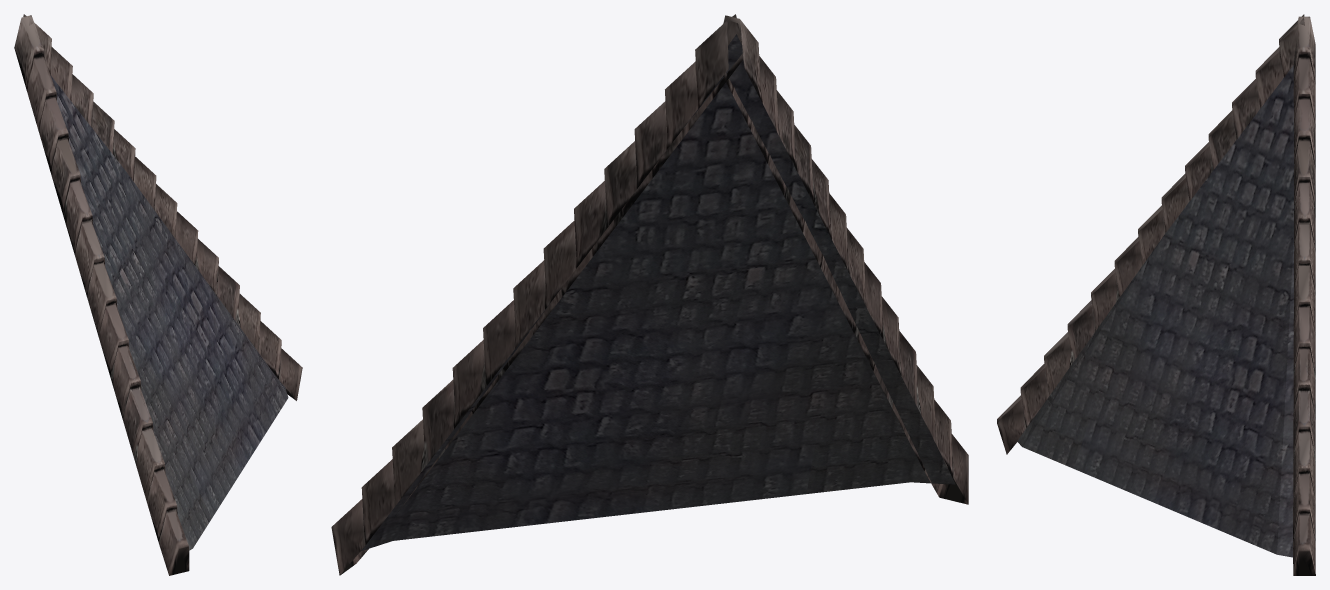
File: RoofCornerDiag1x4-1A.fbx
3 renders of one model, left to right at view 1: azimuth 30°, elevation 25°; view 2: azimuth 150°, elevation 25°; view 3: azimuth 270°, elevation 25°, orthographic. The views are drawn at different scales.
Visible parts, largest first — view 1: RoofCornerDiag1x4-1A; view 2: RoofCornerDiag1x4-1A; view 3: RoofCornerDiag1x4-1A.
Part boxes in pixels (left/top/right/bottom): RoofCornerDiag1x4-1A: left=14, top=14, right=302, bottom=575; RoofCornerDiag1x4-1A: left=331, top=14, right=968, bottom=575; RoofCornerDiag1x4-1A: left=997, top=14, right=1315, bottom=575.
Size of the model in its own units: 282 by 423 by 282.
